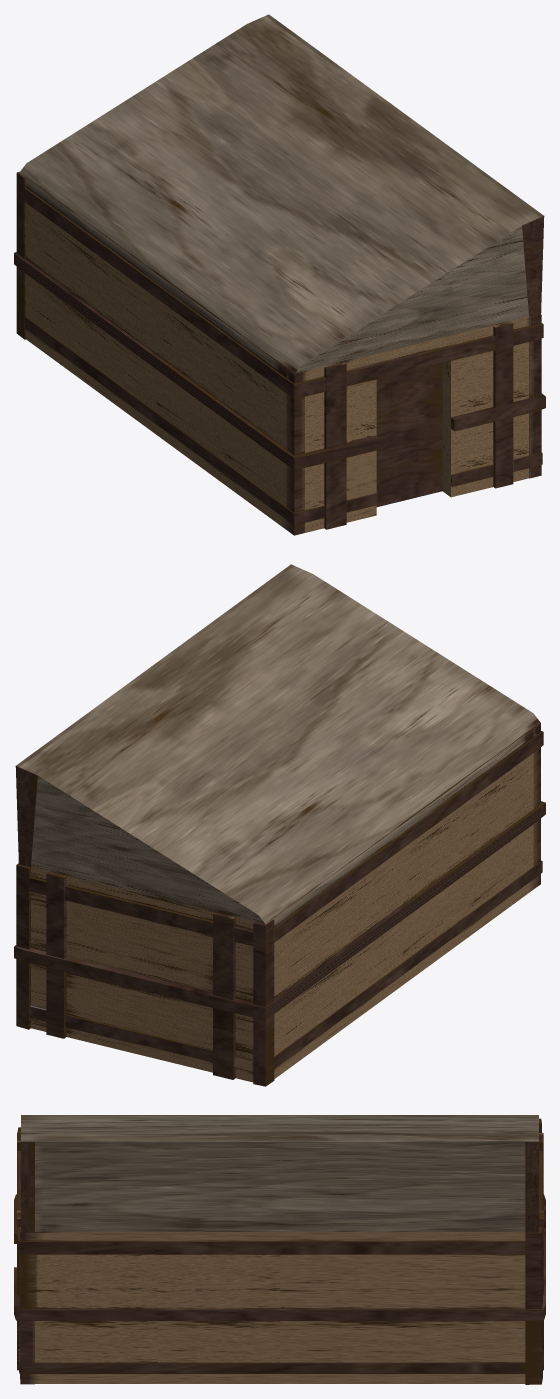
Rendered from haus1fex.fbx.
3 views of the same model, one above another, from view 1: azimuth 30°, elevation 25°; view 2: azimuth 150°, elevation 25°; view 3: azimuth 270°, elevation 25° (orthographic). The views are drawn at different scales.
Parts seen in each view (by area): view 1: Cube; view 2: Cube; view 3: Cube.
Part boxes in pixels (<box>): Cube: <box>14,14,545,535</box>; Cube: <box>14,564,545,1086</box>; Cube: <box>14,1115,545,1384</box>.
Size of the model in its own units: 1271 by 1240 by 2455.
Materials: 1 (1 with a texture image).
